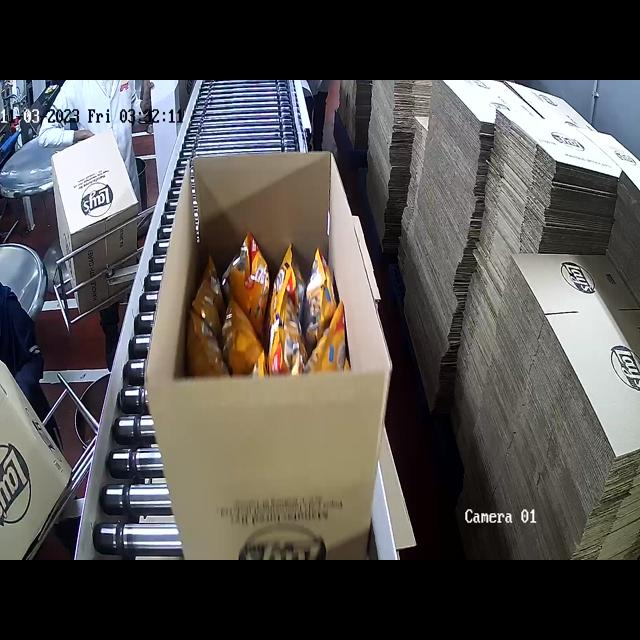cheese: (194, 240, 339, 376)
